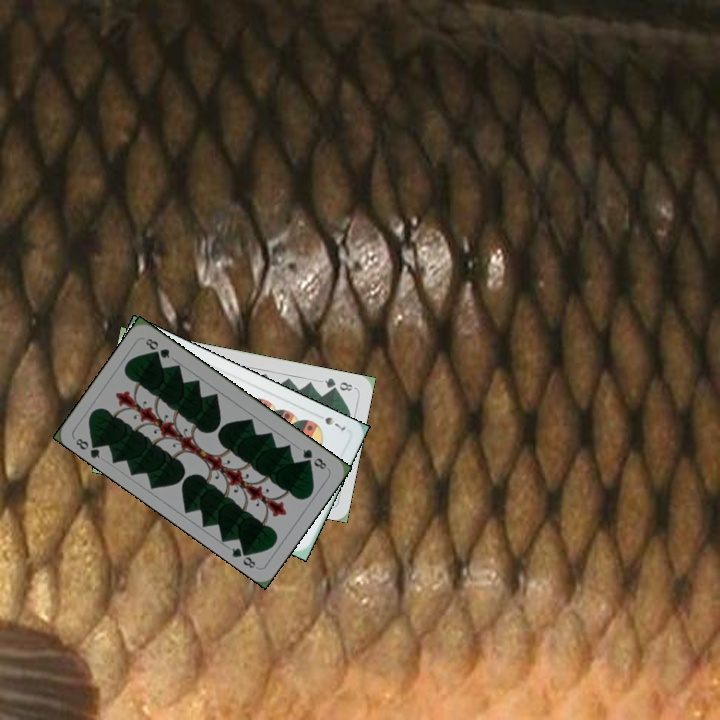G8: (71, 434, 104, 461), (298, 445, 329, 472), (320, 374, 355, 394)
S7: (312, 410, 349, 433)
